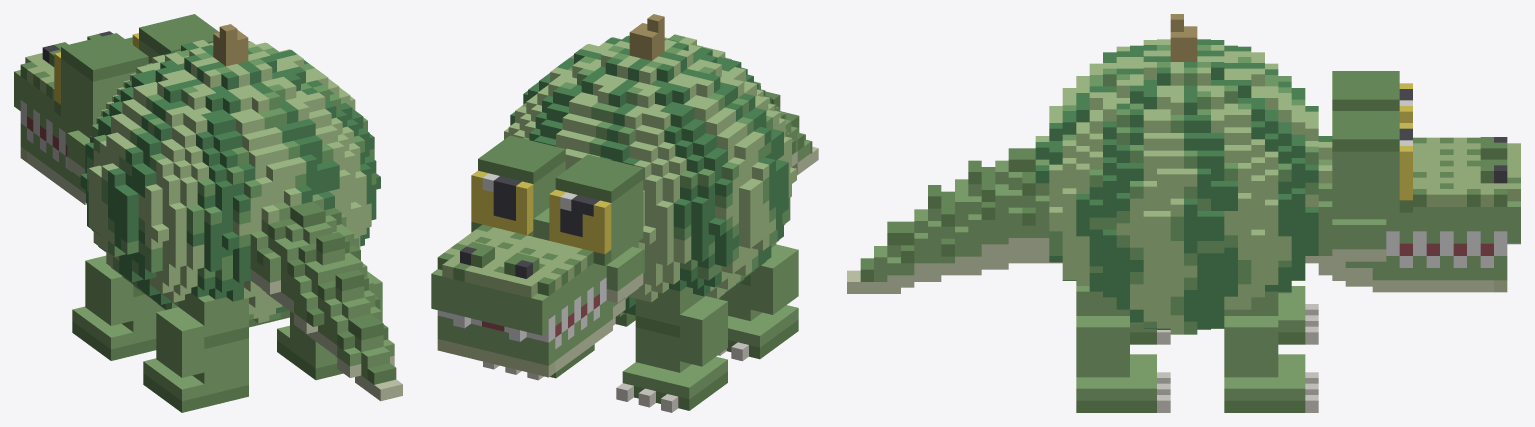
The model's file is GlorboFruttodrillo.glb.
The picture shows the model from 3 angles, left to right: view 1: azimuth 30°, elevation 25°; view 2: azimuth 150°, elevation 25°; view 3: azimuth 270°, elevation 25°; orthographic projection. The views are drawn at different scales.
Parts seen in each view (by area): view 1: geometry_0; view 2: geometry_0; view 3: geometry_0.
Boxes of the visible parts, x1,y1,x2,y2 form: geometry_0: [14, 14, 402, 412]; geometry_0: [431, 14, 818, 412]; geometry_0: [847, 14, 1520, 412].
Size of the model in its own units: 0.7333 by 0.9333 by 1.67.
